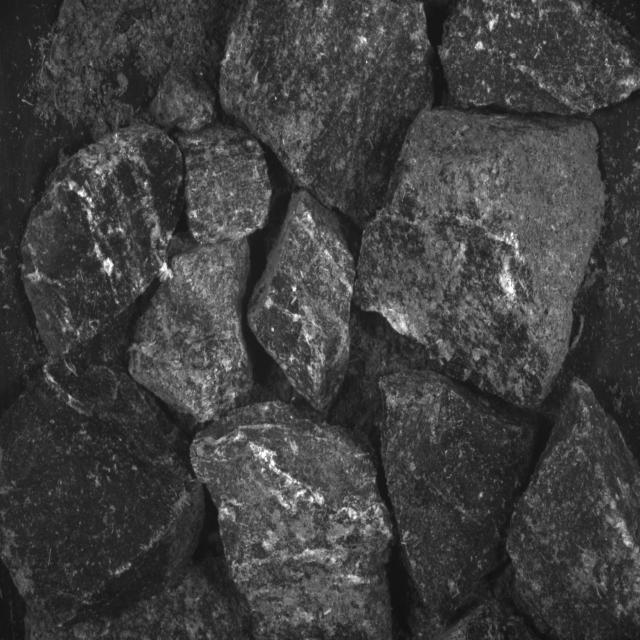Stones: (356, 110, 605, 409), (1, 363, 205, 626), (221, 1, 434, 226), (192, 403, 394, 640), (22, 126, 184, 359), (381, 371, 536, 610), (507, 379, 640, 640), (249, 191, 356, 412), (130, 240, 254, 423), (441, 1, 640, 115), (180, 128, 272, 245)
